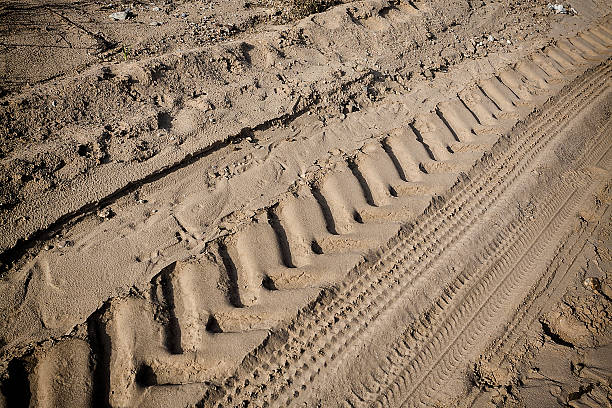vehicle_track: (28, 30, 611, 405), (224, 114, 558, 402), (351, 174, 597, 405)
